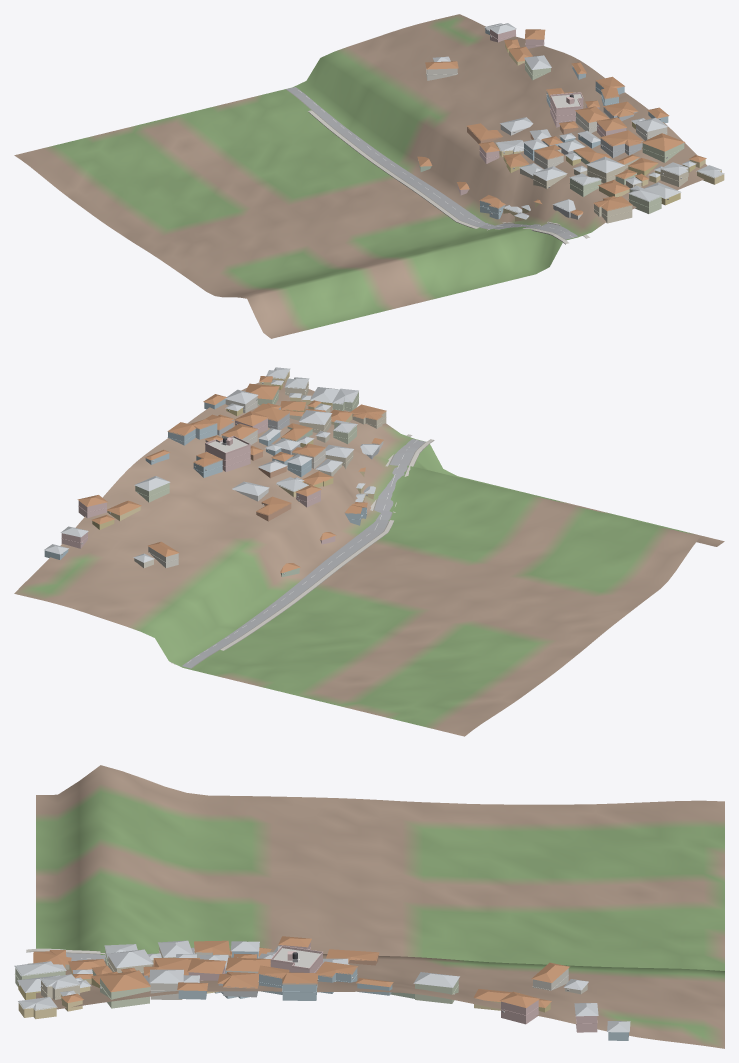
3 renders of one model, top to bottom at view 1: azimuth 30°, elevation 25°; view 2: azimuth 150°, elevation 25°; view 3: azimuth 270°, elevation 25°, orthographic. The views are drawn at different scales.
Parts seen in each view (by area): view 1: Terrain-col, Buildings-col, Roads-col, Details, Sidewalks-col; view 2: Terrain-col, Buildings-col, Roads-col, Sidewalks-col, Details; view 3: Terrain-col, Buildings-col, Details.
Boxes of the visible parts, x1=… form: Terrain-col: x1=14, y1=14, x2=707, y2=338; Buildings-col: x1=417, y1=23, x2=724, y2=223; Roads-col: x1=286, y1=87, x2=577, y2=239; Details: x1=418, y1=29, x2=687, y2=216; Sidewalks-col: x1=308, y1=110, x2=589, y2=244; Terrain-col: x1=14, y1=380, x2=724, y2=736; Buildings-col: x1=44, y1=367, x2=386, y2=577; Roads-col: x1=174, y1=439, x2=425, y2=668; Sidewalks-col: x1=171, y1=434, x2=434, y2=663; Details: x1=61, y1=382, x2=386, y2=574; Terrain-col: x1=36, y1=765, x2=724, y2=1048; Buildings-col: x1=14, y1=936, x2=630, y2=1040; Details: x1=15, y1=945, x2=597, y2=1023.
Bounding box in the file's own units: 263 × 47 × 264.
